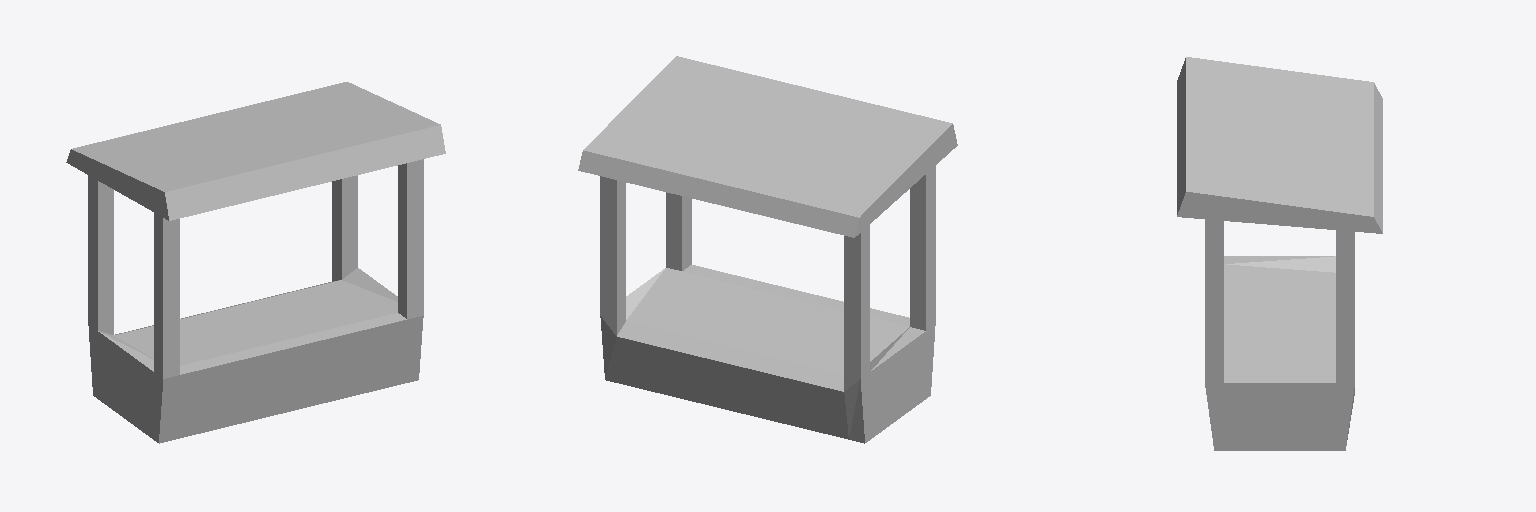
File: trading_post.obj
The picture shows the model from 3 angles: view 1: azimuth 30°, elevation 25°; view 2: azimuth 150°, elevation 25°; view 3: azimuth 270°, elevation 25°; orthographic projection.
Parts seen in each view (by area): view 1: cuboid; view 2: cuboid; view 3: cuboid.
Part boxes in pixels (left/top/right/bottom): cuboid: left=66, top=82, right=445, bottom=443; cuboid: left=578, top=56, right=957, bottom=443; cuboid: left=1177, top=57, right=1382, bottom=450.
Bounding box in the file's own units: 2.12 × 1.94 × 1.38.